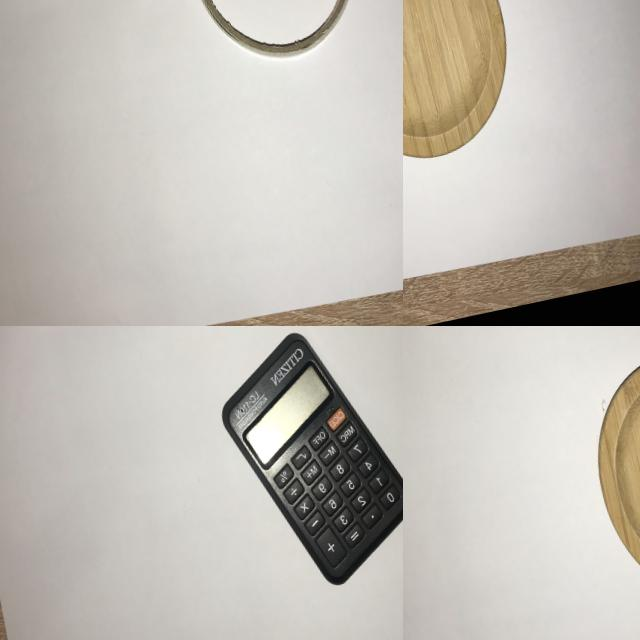calculator: (200, 326, 403, 608)
cup_holder: (403, 0, 535, 187), (567, 326, 640, 621)
scotch: (156, 0, 381, 82)
